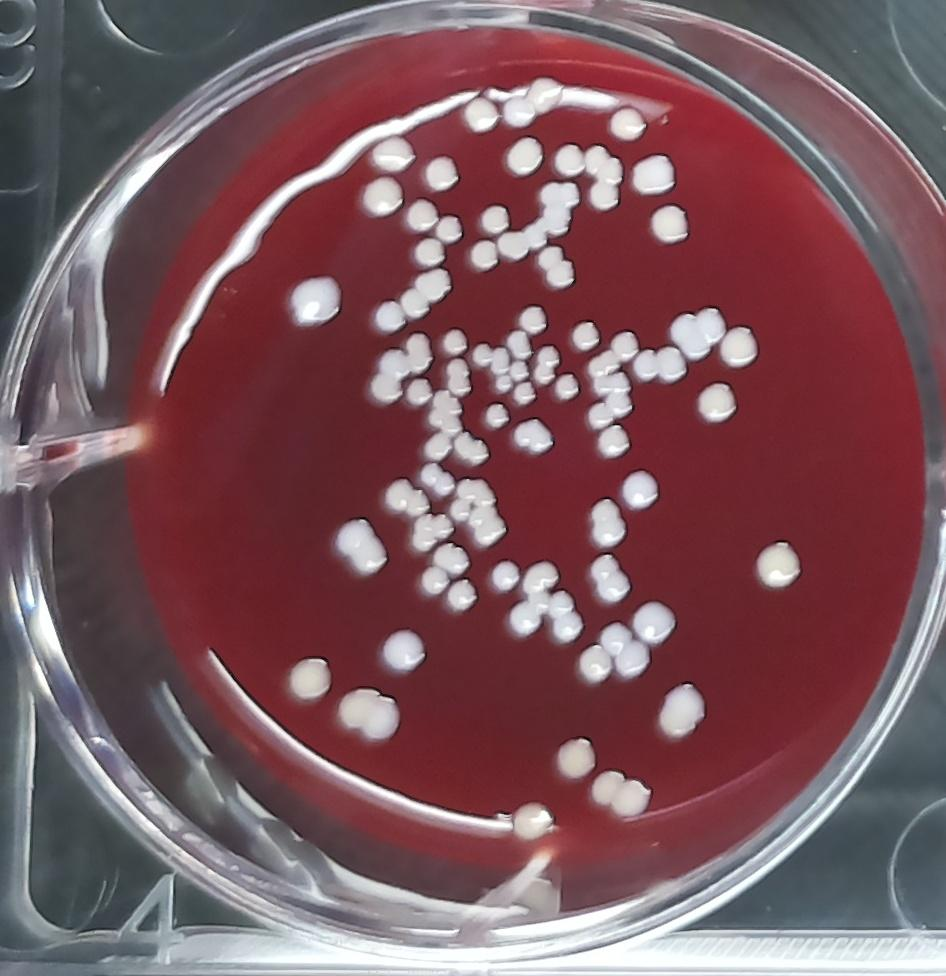staphylo-: (750, 530, 810, 598), (339, 685, 407, 742), (330, 516, 389, 576), (503, 74, 565, 131), (291, 274, 345, 334), (666, 305, 724, 360), (596, 621, 651, 678), (592, 769, 652, 820), (657, 682, 709, 740), (403, 266, 453, 321), (585, 550, 632, 607), (632, 596, 683, 648), (502, 795, 557, 843), (585, 145, 625, 210), (587, 495, 632, 551), (369, 345, 408, 409), (540, 180, 581, 239), (378, 626, 428, 673), (284, 655, 334, 702), (618, 469, 665, 516), (546, 590, 587, 643), (693, 380, 740, 426), (499, 134, 546, 180), (357, 176, 404, 222), (635, 345, 689, 384), (720, 324, 762, 373), (538, 244, 578, 295), (551, 735, 597, 779), (633, 151, 676, 198), (382, 478, 430, 519), (369, 134, 416, 175), (587, 352, 631, 394), (428, 390, 467, 437), (647, 203, 690, 244), (411, 512, 454, 553), (587, 394, 633, 432), (512, 417, 555, 457), (422, 152, 463, 192), (469, 507, 509, 547), (576, 641, 612, 685), (403, 196, 441, 234), (463, 96, 500, 135), (508, 597, 544, 637), (611, 107, 648, 144), (553, 141, 589, 179), (597, 422, 631, 462), (433, 541, 471, 576), (526, 557, 561, 595), (472, 341, 509, 376), (534, 342, 562, 388), (372, 298, 406, 335), (453, 432, 491, 465), (407, 237, 447, 268), (489, 558, 523, 594), (457, 477, 499, 506), (405, 331, 433, 374), (419, 462, 454, 496), (445, 357, 474, 397), (445, 579, 478, 614), (608, 327, 641, 362), (480, 202, 512, 238), (469, 237, 500, 272), (420, 562, 451, 596), (568, 321, 602, 352), (518, 303, 550, 335), (421, 431, 453, 462), (497, 231, 530, 261), (440, 323, 470, 356), (480, 400, 511, 431), (434, 211, 464, 243), (551, 371, 581, 403), (503, 329, 532, 359), (405, 379, 433, 409), (524, 221, 549, 253), (448, 497, 473, 523), (513, 380, 537, 407), (506, 358, 530, 381), (494, 373, 513, 393)
